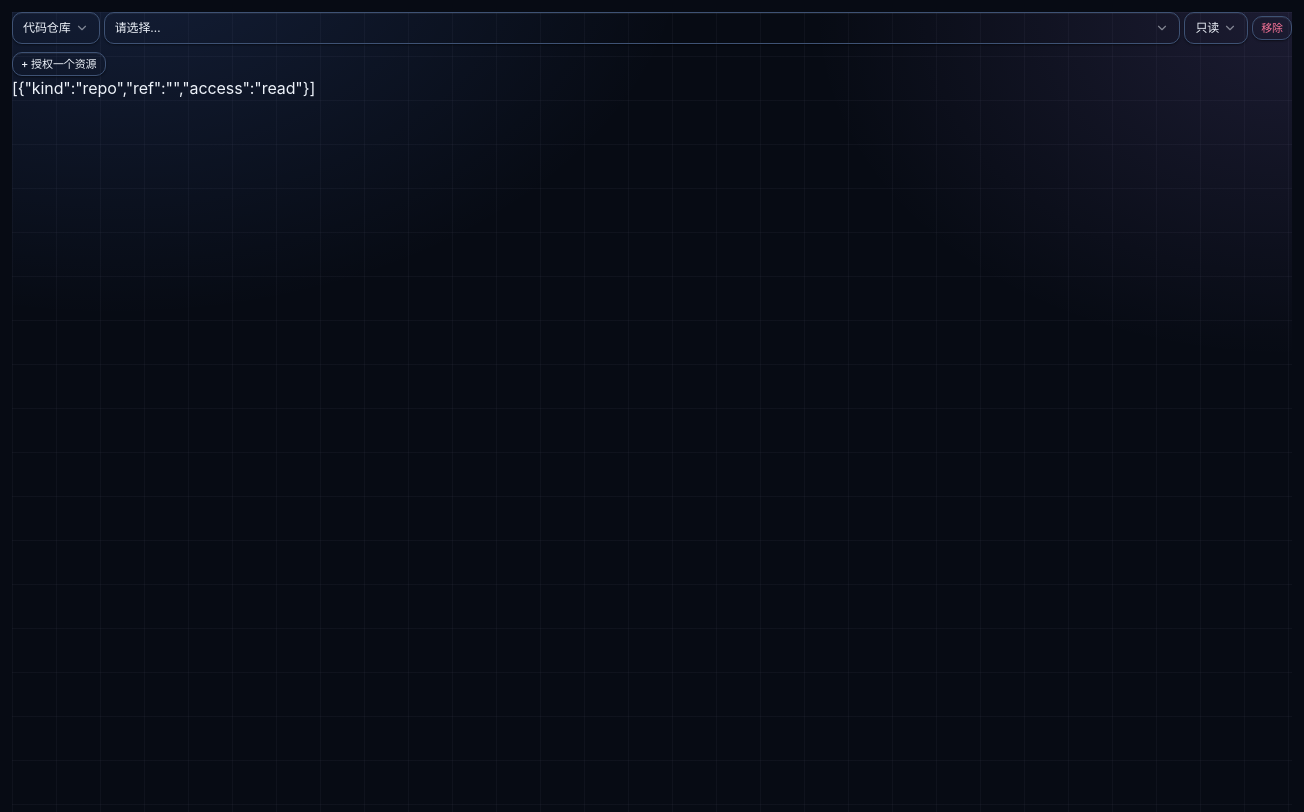
Test: ★ ref 从登记表里选 › 仓库这一格列出已登记的仓库
The width and height of the screenshot is (1304, 812).
Step 1. Click the dropdown named "资源" → (138,28), box [104,12,1180,44]
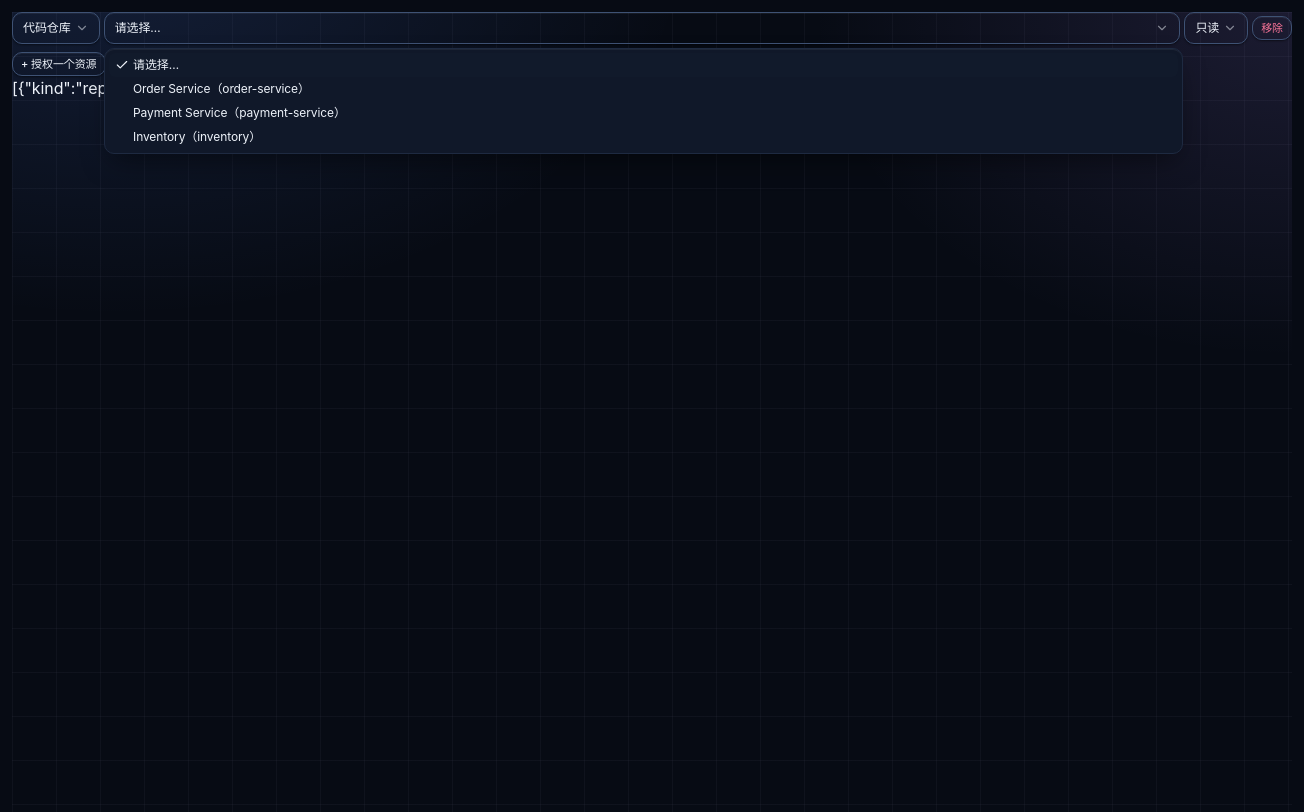
Expected: the option "Order Service（order-service）" is shown, [133,81,310,96]
Expected: the option "Payment Service（payment-service）" is shown, [133,105,346,120]
